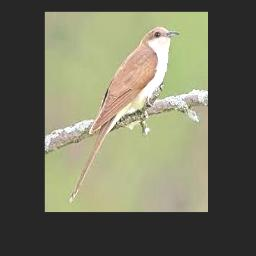Cuckoo: (69, 26, 180, 203)
